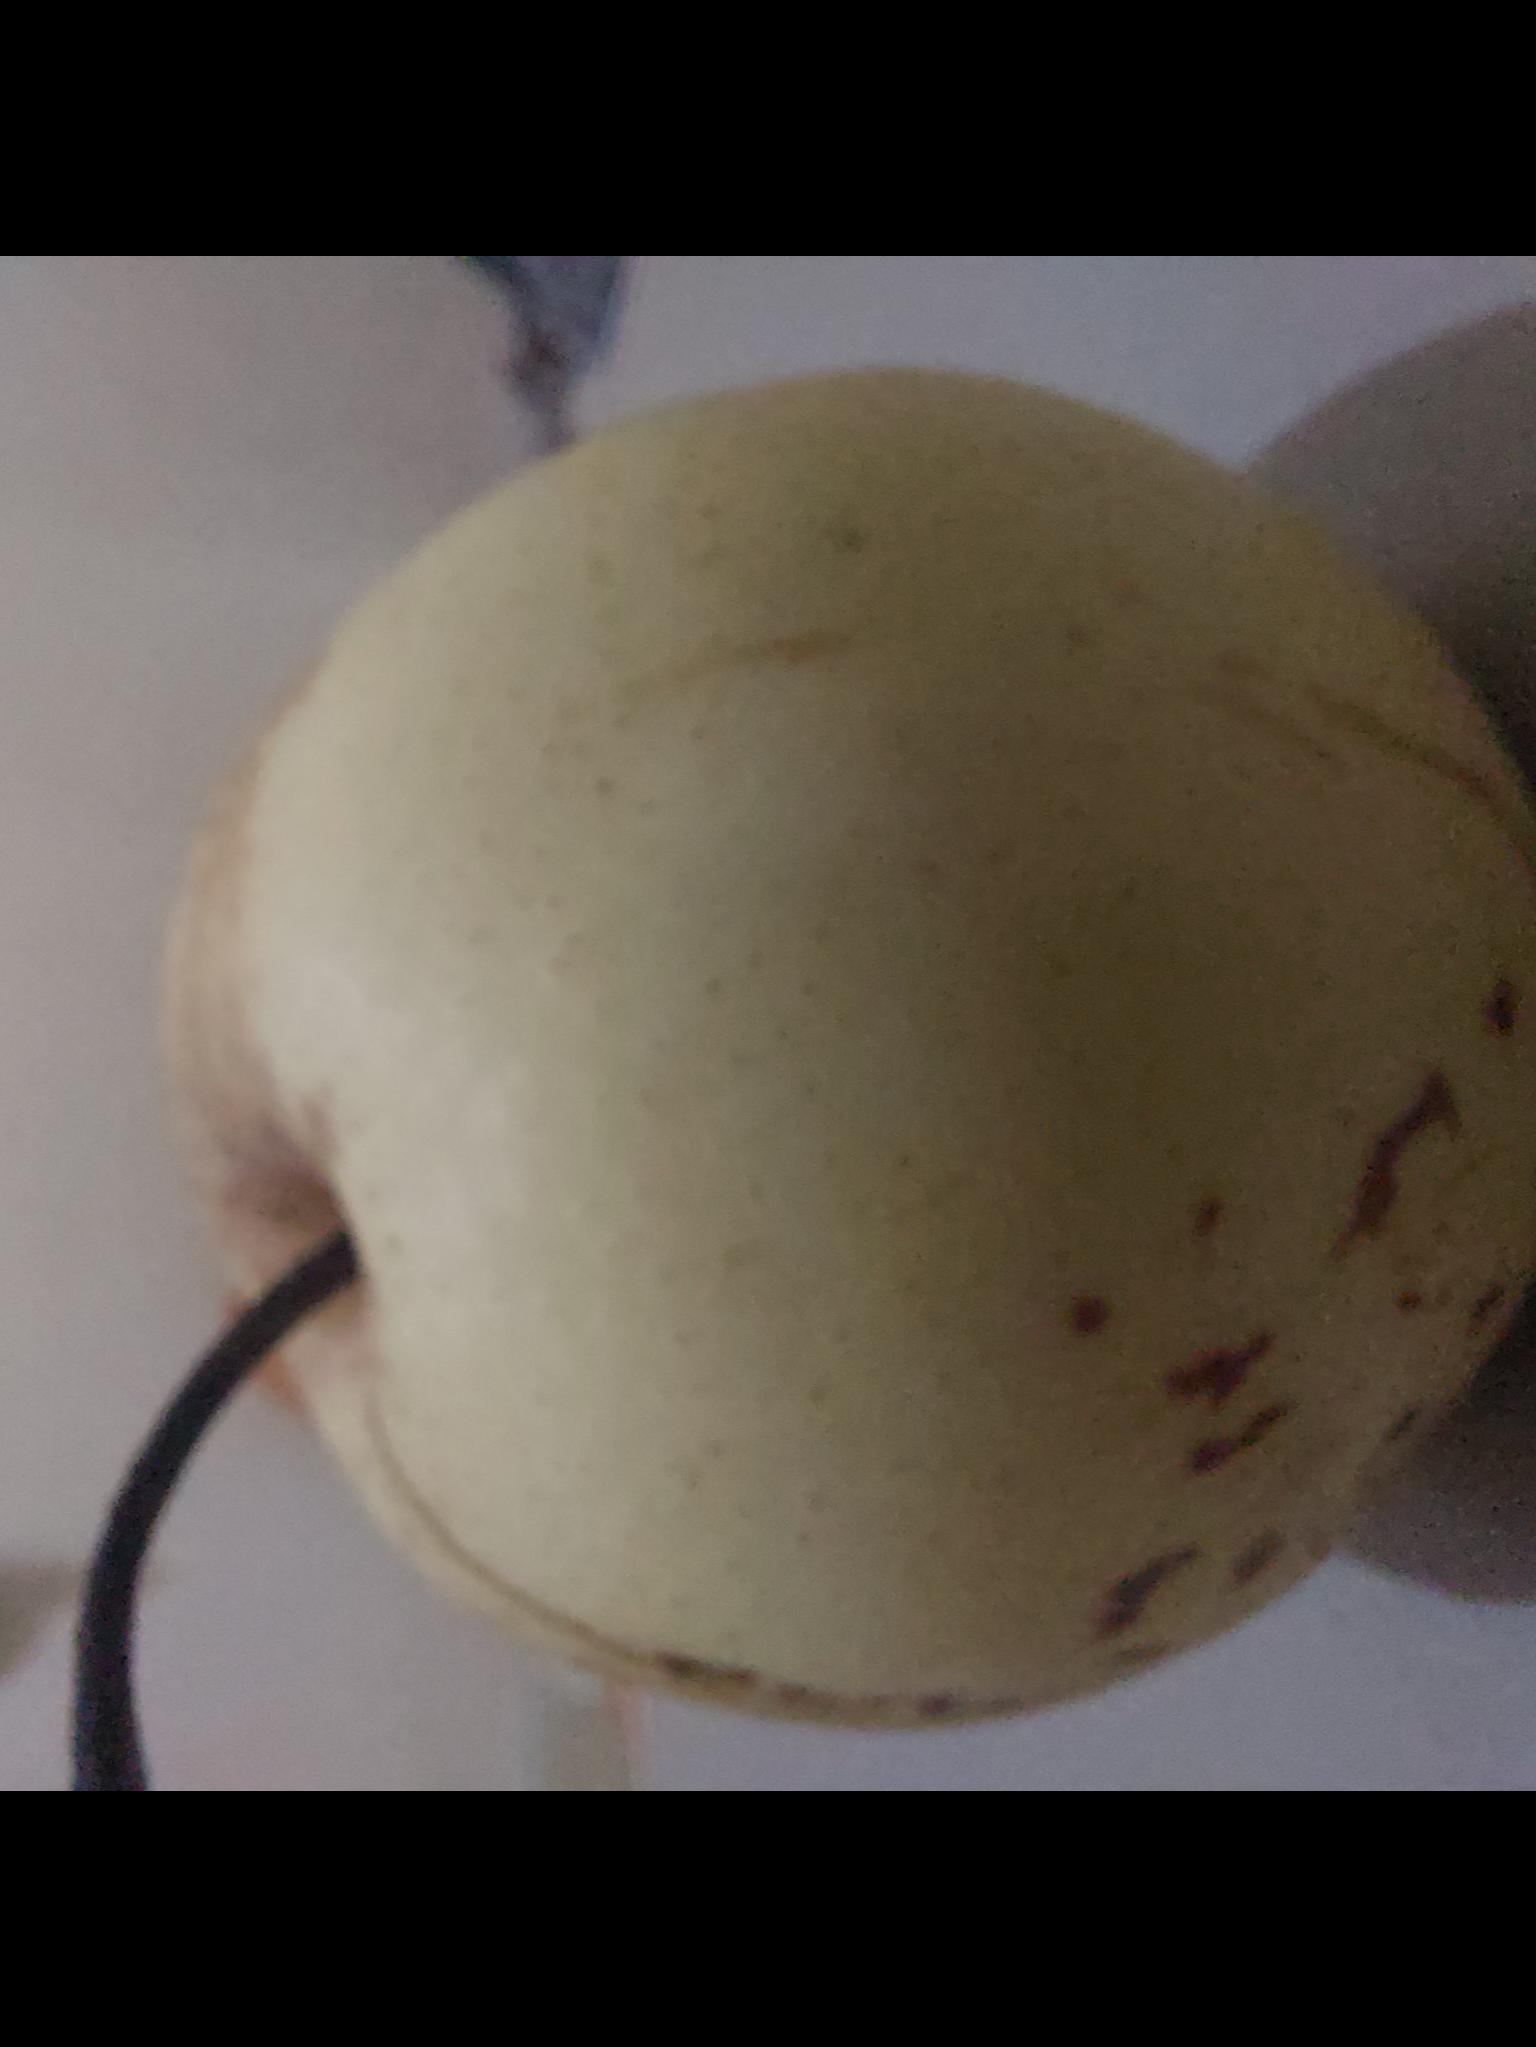Bad Pear: (223, 361, 1536, 1673)
